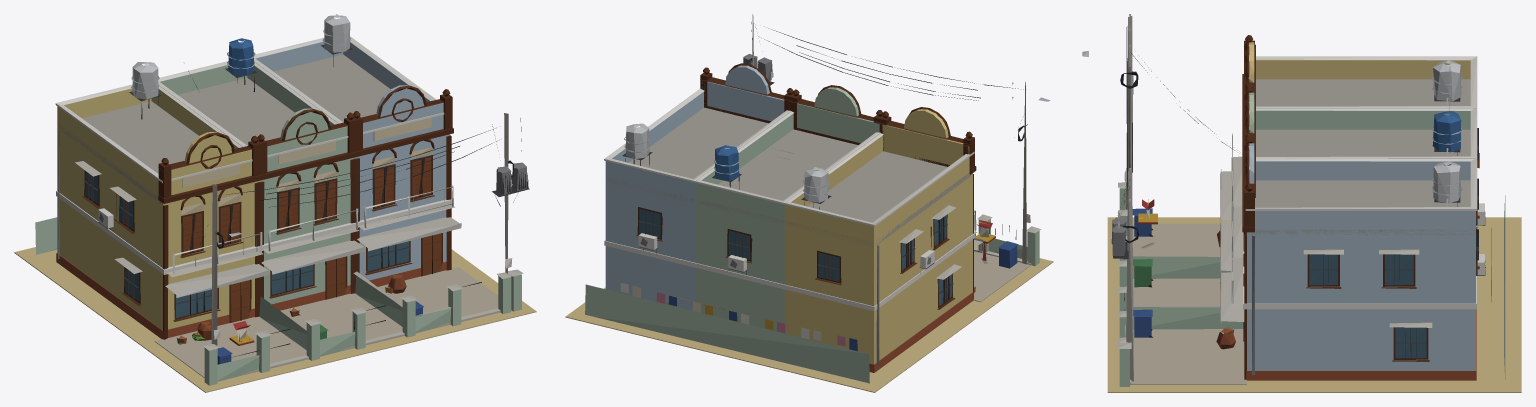
Rendered from home_3.glb.
The picture shows the model from 3 angles, left to right: view 1: azimuth 30°, elevation 25°; view 2: azimuth 150°, elevation 25°; view 3: azimuth 270°, elevation 25°; orthographic projection. The views are drawn at different scales.
Parts seen in each view (by area): view 1: body, windows; view 2: body, windows; view 3: body, windows.
Part boxes in pixels (bbox=[...]): body: bbox=[14, 14, 536, 392]; windows: bbox=[85, 157, 431, 318]; body: bbox=[565, 14, 1053, 392]; windows: bbox=[639, 208, 952, 306]; body: bbox=[1082, 14, 1521, 392]; windows: bbox=[1309, 211, 1477, 358].
Bounding box in the file's own units: 15.9 × 9.75 × 16.88.
